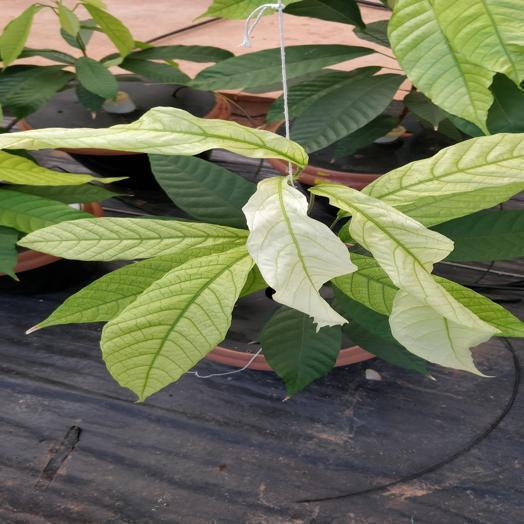Healthy Leaf: (191, 42, 374, 93), (290, 73, 404, 153), (148, 155, 259, 229), (261, 306, 341, 395), (267, 67, 381, 125), (0, 65, 71, 115), (74, 52, 120, 101)
Iron: (311, 185, 497, 375), (101, 248, 252, 400), (0, 107, 307, 167), (243, 177, 355, 330), (27, 248, 202, 332), (388, 0, 491, 129), (366, 133, 523, 204), (21, 217, 246, 260), (436, 0, 523, 83), (394, 185, 523, 226), (0, 189, 88, 232), (334, 254, 395, 315), (1, 151, 96, 185), (84, 0, 134, 55), (0, 5, 39, 66), (59, 3, 79, 37)
